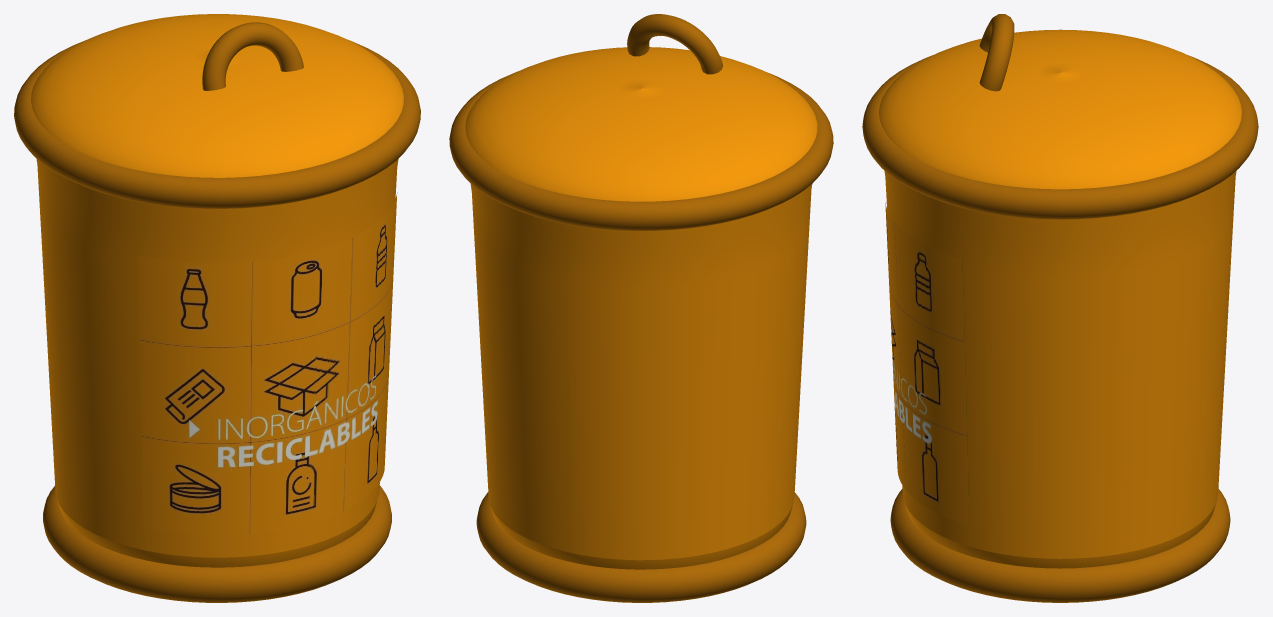
File: bote_rec.gltf
3 views of the same model, side by side, from view 1: azimuth 30°, elevation 25°; view 2: azimuth 150°, elevation 25°; view 3: azimuth 270°, elevation 25° (orthographic). The views are drawn at different scales.
Parts seen in each view (by area): view 1: Etiqueta, Cuerpo, Domo, Borde, Pie, Asa; view 2: Cuerpo, Domo, Borde, Pie, Asa; view 3: Cuerpo, Domo, Etiqueta, Borde, Pie, Asa.
Boxes of the visible parts, box(x1,y1,x2,y2) form: Etiqueta: box(138, 193, 397, 535); Cuerpo: box(36, 159, 398, 567); Domo: box(31, 14, 403, 177); Borde: box(14, 40, 420, 208); Pie: box(43, 485, 391, 602); Asa: box(202, 22, 303, 90); Cuerpo: box(470, 184, 812, 569); Domo: box(465, 47, 817, 201); Borde: box(449, 71, 833, 230); Pie: box(476, 492, 806, 602); Asa: box(627, 14, 722, 74); Cuerpo: box(884, 171, 1236, 568); Domo: box(879, 29, 1241, 189); Etiqueta: box(885, 202, 969, 525); Borde: box(862, 55, 1258, 219); Pie: box(890, 488, 1230, 602); Asa: box(979, 14, 1014, 91).
Bounding box in the file's own units: 0.452 × 0.6524 × 0.452.
Materials: 4 (1 with a texture image).
